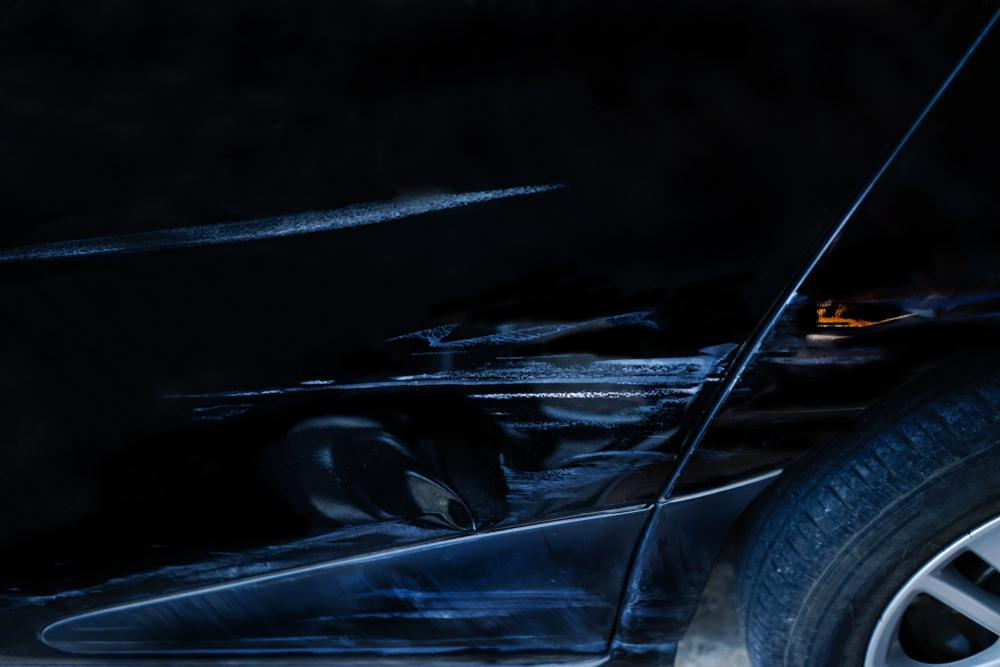dent: (240, 392, 515, 544)
scratch: (376, 300, 754, 509), (200, 585, 619, 661), (765, 292, 1000, 375)
